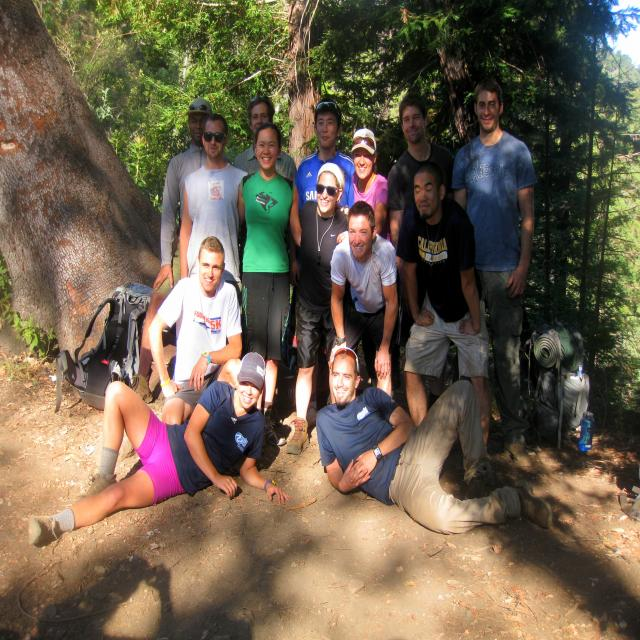body: (26, 349, 293, 548), (315, 346, 554, 534), (450, 79, 540, 468), (130, 97, 233, 404), (395, 160, 492, 446), (386, 92, 455, 414), (238, 122, 303, 447), (283, 162, 353, 455), (148, 234, 245, 426), (178, 112, 250, 316), (329, 199, 398, 405), (290, 99, 356, 249), (336, 128, 389, 245), (231, 95, 298, 184)
